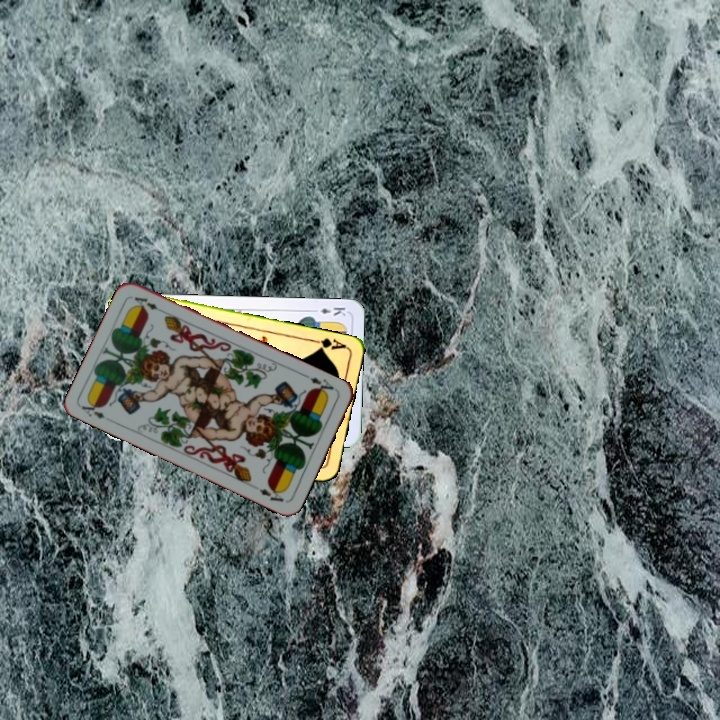EA: (306, 373, 336, 398), (77, 397, 107, 421)
EK: (308, 303, 348, 319)
GA: (308, 334, 349, 353)
